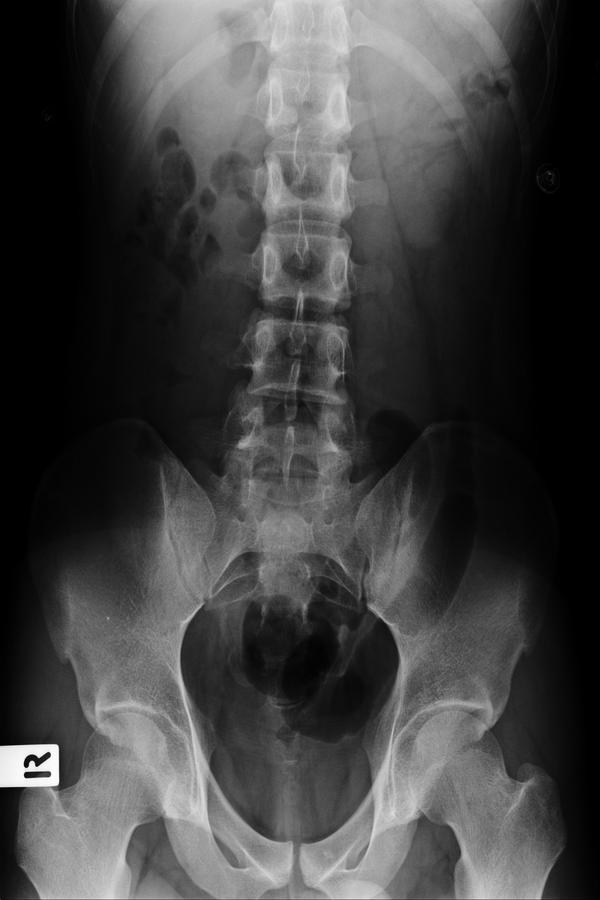lumbar scoliosis: (228, 130, 364, 505)
